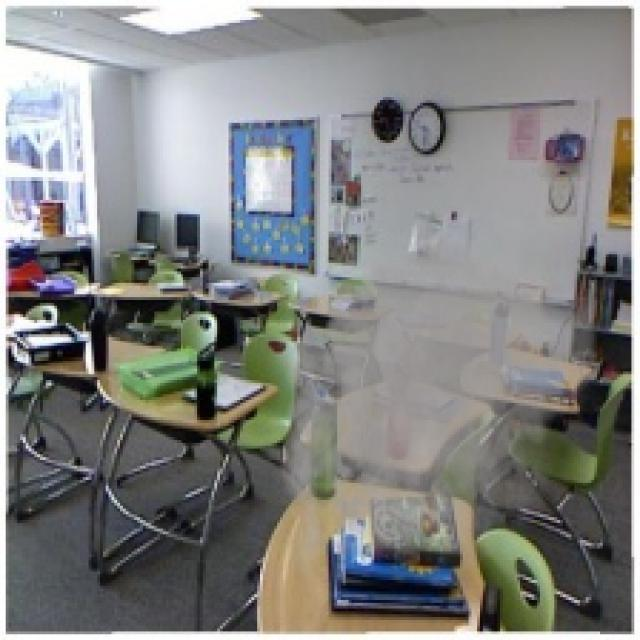Smoke: (262, 208, 608, 592)
